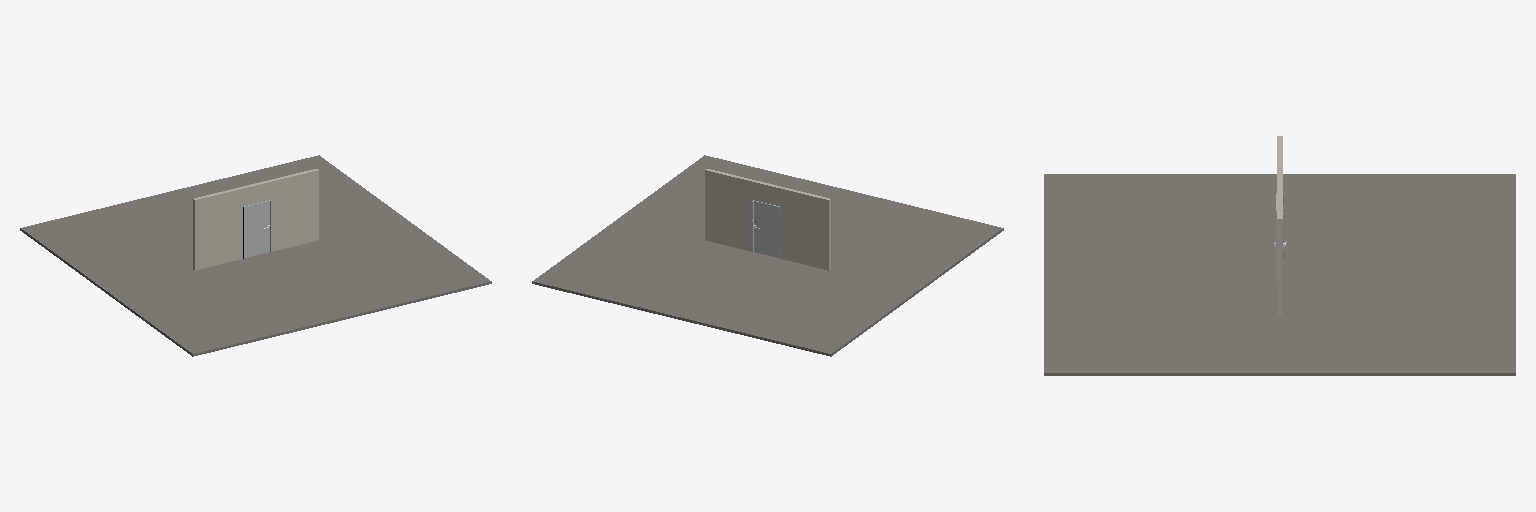
URDF robot description (db0469_cold_storage_simple):
<?xml version="1.0" ?>
<robot xmlns:doorbench="https://github.com/adamraudonis/DoorBench/schema/urdf-ext" name="db0469_cold_storage_simple">
  <link name="world_env">
    <visual name="floor_vis">
      <origin xyz="0 0 -0.05" rpy="0 0 0"/>
      <geometry>
        <box size="12 12 0.1"/>
      </geometry>
      <material name="mat_floor"/>
    </visual>
    <collision name="floor_col">
      <origin xyz="0 0 -0.05" rpy="0 0 0"/>
      <geometry>
        <box size="12 12 0.1"/>
      </geometry>
    </collision>
    <visual name="wall_left_vis">
      <origin xyz="-1.545 0 1.35" rpy="0 0 0"/>
      <geometry>
        <box size="1.91 0.15 2.7"/>
      </geometry>
      <material name="mat_wall"/>
    </visual>
    <collision name="wall_left_col">
      <origin xyz="-1.545 0 1.35" rpy="0 0 0"/>
      <geometry>
        <box size="1.91 0.15 2.7"/>
      </geometry>
    </collision>
    <visual name="wall_right_vis">
      <origin xyz="1.56 0 1.35" rpy="0 0 0"/>
      <geometry>
        <box size="1.88 0.15 2.7"/>
      </geometry>
      <material name="mat_wall"/>
    </visual>
    <collision name="wall_right_col">
      <origin xyz="1.56 0 1.35" rpy="0 0 0"/>
      <geometry>
        <box size="1.88 0.15 2.7"/>
      </geometry>
    </collision>
    <visual name="wall_header_vis">
      <origin xyz="0.015 0 2.3875" rpy="0 0 0"/>
      <geometry>
        <box size="1.21 0.15 0.625"/>
      </geometry>
      <material name="mat_wall"/>
    </visual>
    <collision name="wall_header_col">
      <origin xyz="0.015 0 2.3875" rpy="0 0 0"/>
      <geometry>
        <box size="1.21 0.15 0.625"/>
      </geometry>
    </collision>
    <visual name="hinge_0_jamb_vis">
      <origin xyz="-0.542 0.082 0.262" rpy="3.141593 0 0"/>
      <geometry>
        <mesh filename="../../hardware/hinge_jamb_953fb56768.obj"/>
      </geometry>
      <material name="mat_hinge"/>
    </visual>
    <visual name="hinge_1_jamb_vis">
      <origin xyz="-0.542 0.082 1.7964" rpy="3.141593 0 0"/>
      <geometry>
        <mesh filename="../../hardware/hinge_jamb_953fb56768.obj"/>
      </geometry>
      <material name="mat_hinge"/>
    </visual>
    <visual name="leaf_staple_leg_n_vis">
      <origin xyz="0.572 0.089 1.2125" rpy="-1.570796 0 0"/>
      <geometry>
        <box size="0.006 0.005 0.028"/>
      </geometry>
      <material name="mat_op_steel_galvanized"/>
    </visual>
    <collision name="leaf_staple_leg_n_col">
      <origin xyz="0.572 0.089 1.2125" rpy="-1.570796 0 0"/>
      <geometry>
        <box size="0.006 0.005 0.028"/>
      </geometry>
    </collision>
    <visual name="leaf_staple_leg_p_vis">
      <origin xyz="0.572 0.089 1.1875" rpy="-1.570796 0 0"/>
      <geometry>
        <box size="0.006 0.005 0.028"/>
      </geometry>
      <material name="mat_op_steel_galvanized"/>
    </visual>
    <collision name="leaf_staple_leg_p_col">
      <origin xyz="0.572 0.089 1.1875" rpy="-1.570796 0 0"/>
      <geometry>
        <box size="0.006 0.005 0.028"/>
      </geometry>
    </collision>
    <visual name="leaf_staple_bridge_vis">
      <origin xyz="0.572 0.1005 1.2" rpy="-1.570796 0 0"/>
      <geometry>
        <box size="0.006 0.03 0.005"/>
      </geometry>
      <material name="mat_op_steel_galvanized"/>
    </visual>
    <collision name="leaf_staple_bridge_col">
      <origin xyz="0.572 0.1005 1.2" rpy="-1.570796 0 0"/>
      <geometry>
        <box size="0.006 0.03 0.005"/>
      </geometry>
    </collision>
    <visual name="leaf_staple_base_vis">
      <origin xyz="0.572 0.076 1.2" rpy="-1.570796 0 0"/>
      <geometry>
        <box size="0.032 0.042 0.002"/>
      </geometry>
      <material name="mat_op_steel_galvanized"/>
    </visual>
    <visual name="jamb_hinge_vis">
      <origin xyz="-0.5675 0 1" rpy="0 0 0"/>
      <geometry>
        <box size="0.045 0.15 2"/>
      </geometry>
      <material name="mat_frame"/>
    </visual>
    <collision name="jamb_hinge_col">
      <origin xyz="-0.5675 0 1" rpy="0 0 0"/>
      <geometry>
        <box size="0.045 0.15 2"/>
      </geometry>
    </collision>
    <visual name="strike_1926_wall_n_vis">
      <origin xyz="0.5825 -0.04125 1.9264" rpy="0 0 0"/>
      <geometry>
        <box size="0.075 0.0675 0.038"/>
      </geometry>
      <material name="mat_frame"/>
    </visual>
    <collision name="strike_1926_wall_n_col">
      <origin xyz="0.5825 -0.04125 1.9264" rpy="0 0 0"/>
      <geometry>
        <box size="0.075 0.0675 0.038"/>
      </geometry>
    </collision>
    <visual name="strike_1926_wall_p_vis">
      <origin xyz="0.5825 0.0155 1.9264" rpy="0 0 0"/>
      <geometry>
        <box size="0.075 0.016 0.038"/>
      </geometry>
      <material name="mat_frame"/>
    </visual>
    <collision name="strike_1926_wall_p_col">
      <origin xyz="0.5825 0.0155 1.9264" rpy="0 0 0"/>
      <geometry>
        <box size="0.075 0.016 0.038"/>
      </geometry>
    </collision>
    <visual name="strike_1926_ramp_vis">
      <origin xyz="0.585822 0.055596 1.9264" rpy="0 0 -0.097591"/>
      <geometry>
        <box size="0.075 0.071842 0.038"/>
      </geometry>
      <material name="mat_frame"/>
    </visual>
    <collision name="strike_1926_ramp_col">
      <origin xyz="0.585822 0.055596 1.9264" rpy="0 0 -0.097591"/>
      <geometry>
        <box size="0.075 0.071842 0.038"/>
      </geometry>
    </collision>
    <visual name="strike_1926_ramp_n_vis">
      <origin xyz="0.585822 -0.043596 1.9264" rpy="0 0 0.097591"/>
      <geometry>
        <box size="0.075 0.071842 0.038"/>
      </geometry>
      <material name="mat_frame"/>
    </visual>
    <collision name="strike_1926_ramp_n_col">
      <origin xyz="0.585822 -0.043596 1.9264" rpy="0 0 0.097591"/>
      <geometry>
        <box size="0.075 0.071842 0.038"/>
      </geometry>
    </collision>
    <visual name="strike_1926_back_vis">
      <origin xyz="0.5875 0 1.9264" rpy="0 0 0"/>
      <geometry>
        <box size="0.065 0.015 0.038"/>
      </geometry>
      <material name="mat_frame"/>
    </visual>
    <collision name="strike_1926_back_col">
      <origin xyz="0.5875 0 1.9264" rpy="0 0 0"/>
      <geometry>
        <box size="0.065 0.015 0.038"/>
      </geometry>
    </collision>
    <visual name="jamb_strike_0_vis">
      <origin xyz="0.5825 0 0.9537" rpy="0 0 0"/>
      <geometry>
        <box size="0.075 0.15 1.9074"/>
      </geometry>
      <material name="mat_frame"/>
    </visual>
    <collision name="jamb_strike_0_col">
      <origin xyz="0.5825 0 0.9537" rpy="0 0 0"/>
      <geometry>
        <box size="0.075 0.15 1.9074"/>
      </geometry>
    </collision>
    <visual name="jamb_strike_1_vis">
      <origin xyz="0.5825 0 1.9727" rpy="0 0 0"/>
      <geometry>
        <box size="0.075 0.15 0.0546"/>
      </geometry>
      <material name="mat_frame"/>
    </visual>
    <collision name="jamb_strike_1_col">
      <origin xyz="0.5825 0 1.9727" rpy="0 0 0"/>
      <geometry>
        <box size="0.075 0.15 0.0546"/>
      </geometry>
    </collision>
    <visual name="jamb_head_vis">
      <origin xyz="0.015 0 2.0225" rpy="0 0 0"/>
      <geometry>
        <box size="1.21 0.15 0.045"/>
      </geometry>
      <material name="mat_frame"/>
    </visual>
    <collision name="jamb_head_col">
      <origin xyz="0.015 0 2.0225" rpy="0 0 0"/>
      <geometry>
        <box size="1.21 0.15 0.045"/>
      </geometry>
    </collision>
    <visual name="head_stud_vis">
      <origin xyz="0.015 0 2.06" rpy="0 0 0"/>
      <geometry>
        <box size="1.21 0.15 0.03"/>
      </geometry>
      <material name="mat_wall"/>
    </visual>
    <collision name="head_stud_col">
      <origin xyz="0.015 0 2.06" rpy="0 0 0"/>
      <geometry>
        <box size="1.21 0.15 0.03"/>
      </geometry>
    </collision>
    <visual name="stop_hinge_vis">
      <origin xyz="-0.5395 -0.0915 1" rpy="0 0 0"/>
      <geometry>
        <box size="0.011 0.032 2"/>
      </geometry>
      <material name="mat_frame"/>
    </visual>
    <collision name="stop_hinge_col">
      <origin xyz="-0.5395 -0.0915 1" rpy="0 0 0"/>
      <geometry>
        <box size="0.011 0.032 2"/>
      </geometry>
    </collision>
    <visual name="stop_strike_vis">
      <origin xyz="0.5395 -0.0915 1" rpy="0 0 0"/>
      <geometry>
        <box size="0.011 0.032 2"/>
      </geometry>
      <material name="mat_frame"/>
    </visual>
    <collision name="stop_strike_col">
      <origin xyz="0.5395 -0.0915 1" rpy="0 0 0"/>
      <geometry>
        <box size="0.011 0.032 2"/>
      </geometry>
    </collision>
    <visual name="stop_head_vis">
      <origin xyz="0 -0.0915 1.9945" rpy="0 0 0"/>
      <geometry>
        <box size="1.09 0.032 0.011"/>
      </geometry>
      <material name="mat_frame"/>
    </visual>
    <collision name="stop_head_col">
      <origin xyz="0 -0.0915 1.9945" rpy="0 0 0"/>
      <geometry>
        <box size="1.09 0.032 0.011"/>
      </geometry>
    </collision>
    <visual name="seal_hinge_vis">
      <origin xyz="-0.542 -0.08 1" rpy="0 0 0"/>
      <geometry>
        <box size="0.008 0.01 2"/>
      </geometry>
      <material name="mat_seal"/>
    </visual>
    <visual name="seal_strike_vis">
      <origin xyz="0.542 -0.08 1" rpy="0 0 0"/>
      <geometry>
        <box size="0.008 0.01 2"/>
      </geometry>
      <material name="mat_seal"/>
    </visual>
    <visual name="seal_head_vis">
      <origin xyz="0 -0.08 1.988" rpy="0 0 0"/>
      <geometry>
        <box size="1.05 0.01 0.016"/>
      </geometry>
      <material name="mat_seal"/>
    </visual>
  </link>
  <link name="leaf_riser">
    <inertial>
      <origin xyz="0 0 0" rpy="0 0 0"/>
      <mass value="0.01"/>
      <inertia ixx="0.000001" ixy="0" ixz="0" iyy="0.000001" iyz="0" izz="0.000001"/>
    </inertial>
  </link>
  <link name="leaf">
    <inertial>
      <origin xyz="0.520373 -0.083636 0.951699" rpy="0 0 0"/>
      <mass value="58.810554"/>
      <inertia ixx="20.605331447" ixy="0.066796312" ixz="0.05287208" iyy="26.381168085" iyz="-0.19826602" izz="6.034205659"/>
    </inertial>
    <visual name="leaf_slab_vis">
      <origin xyz="0.535 -0.082 0.9942" rpy="0 0 0"/>
      <geometry>
        <box size="1.07 0.15 1.9644"/>
      </geometry>
      <material name="mat_leaf"/>
    </visual>
    <collision name="leaf_slab_col">
      <origin xyz="0.535 -0.082 0.9942" rpy="0 0 0"/>
      <geometry>
        <box size="1.07 0.15 1.9644"/>
      </geometry>
    </collision>
    <visual name="hinge_0_vis">
      <origin xyz="0 0 0.262" rpy="3.141593 0 0"/>
      <geometry>
        <mesh filename="../../hardware/hinge_05d9a38dfa.obj"/>
      </geometry>
      <material name="mat_hinge"/>
    </visual>
    <visual name="hinge_1_vis">
      <origin xyz="0 0 1.7964" rpy="3.141593 0 0"/>
      <geometry>
        <mesh filename="../../hardware/hinge_05d9a38dfa.obj"/>
      </geometry>
      <material name="mat_hinge"/>
    </visual>
    <visual name="leaf_mag_catch_faceplate_vis">
      <origin xyz="1.0694 -0.082 1.9264" rpy="0 0 0"/>
      <geometry>
        <box size="0.0012 0.024 0.058"/>
      </geometry>
      <material name="mat_bolt"/>
    </visual>
    <visual name="leaf_hasp_plate_vis">
      <origin xyz="0.995 -0.004 1.2" rpy="-1.570796 0 0"/>
      <geometry>
        <box size="0.048 0.043 0.006"/>
      </geometry>
      <material name="mat_op_steel_galvanized"/>
    </visual>
    <visual name="kick_plate_n_vis">
      <origin xyz="0.535 -0.1578 0.147" rpy="0 0 0"/>
      <geometry>
        <box size="1.01 0.0016 0.25"/>
      </geometry>
      <material name="mat_kick"/>
    </visual>
  </link>
  <link name="leaf_handle">
    <inertial>
      <origin xyz="-0.047801 0 0" rpy="0 0 0"/>
      <mass value="2.884841"/>
      <inertia ixx="0.037747558" ixy="0" ixz="0" iyy="0.01820894" iyz="0" izz="0.053988164"/>
    </inertial>
    <visual name="leaf_handle_lever_n_vis">
      <origin xyz="0 -0.075 0" rpy="1.570796 0 0"/>
      <geometry>
        <mesh filename="../../hardware/lever_40740b93f7.obj"/>
      </geometry>
      <material name="mat_op_chrome"/>
    </visual>
    <collision name="leaf_handle_lever_col_n_col">
      <origin xyz="-0.125 -0.13 0" rpy="0 -1.570796 0"/>
      <geometry>
        <cylinder radius="0.0095" length="0.231"/>
      </geometry>
    </collision>
    <collision name="leaf_handle_hub_col_n_col">
      <origin xyz="0 -0.105 0" rpy="-1.570796 0 0"/>
      <geometry>
        <cylinder radius="0.012" length="0.044"/>
      </geometry>
    </collision>
    <visual name="leaf_handle_lever_p_vis">
      <origin xyz="0 0.075 0" rpy="-1.570796 0 0"/>
      <geometry>
        <mesh filename="../../hardware/lever_40740b93f7.obj"/>
      </geometry>
      <material name="mat_op_chrome"/>
    </visual>
    <collision name="leaf_handle_lever_col_p_col">
      <origin xyz="-0.125 0.13 0" rpy="0 -1.570796 0"/>
      <geometry>
        <cylinder radius="0.0095" length="0.231"/>
      </geometry>
    </collision>
    <collision name="leaf_handle_hub_col_p_col">
      <origin xyz="0 0.105 0" rpy="-1.570796 0 0"/>
      <geometry>
        <cylinder radius="0.012" length="0.044"/>
      </geometry>
    </collision>
  </link>
  <link name="leaf_mag_catch">
    <inertial>
      <origin xyz="-0.012 0 0" rpy="0 0 0"/>
      <mass value="0.030762"/>
      <inertia ixx="0.000000526" ixy="0" ixz="0" iyy="0.000002949" iyz="0" izz="0.000002949"/>
    </inertial>
    <visual name="leaf_mag_catch_capsule_vis">
      <origin xyz="-0.012 0 0" rpy="0 1.570796 0"/>
      <geometry>
        <cylinder radius="0.006" length="0.024"/>
      </geometry>
      <material name="mat_bolt"/>
    </visual>
    <collision name="leaf_mag_catch_capsule_col">
      <origin xyz="-0.012 0 0" rpy="0 1.570796 0"/>
      <geometry>
        <cylinder radius="0.006" length="0.024"/>
      </geometry>
    </collision>
  </link>
  <link name="leaf_hasp">
    <inertial>
      <origin xyz="-0.057507 0.018853 0" rpy="0 0 0"/>
      <mass value="0.099099"/>
      <inertia ixx="0.00002375" ixy="0.000038139" ixz="0" iyy="0.000117466" iyz="0" izz="0.000120983"/>
    </inertial>
    <visual name="leaf_hasp_strap_vis">
      <origin xyz="-0.057507 0.018853 0" rpy="-1.570796 0 2.8"/>
      <geometry>
        <box size="0.121 0.035 0.003"/>
      </geometry>
      <material name="mat_op_steel_galvanized"/>
    </visual>
    <collision name="leaf_hasp_strap_col">
      <origin xyz="-0.057507 0.018853 0" rpy="-1.570796 0 2.8"/>
      <geometry>
        <box size="0.121 0.035 0.003"/>
      </geometry>
    </collision>
  </link>
  <joint name="leaf_rise" type="prismatic">
    <origin xyz="-0.545 0 0" rpy="0 0 0"/>
    <parent link="world_env"/>
    <child link="leaf_riser"/>
    <axis xyz="0 0 1"/>
    <limit lower="0" upper="0.0264" effort="5000" velocity="10"/>
    <dynamics damping="1" friction="0"/>
    <mimic joint="leaf_hinge" multiplier="0.007639" offset="0"/>
  </joint>
  <joint name="leaf_hinge" type="revolute">
    <origin xyz="0.003 0.082 0" rpy="0 0 0"/>
    <parent link="leaf_riser"/>
    <child link="leaf"/>
    <axis xyz="0 0 1"/>
    <limit lower="0" upper="1.570796" effort="2000" velocity="10"/>
    <dynamics damping="0.518725" friction="5.823855"/>
    <doorbench:closer damping_closing="0" damping_opening="0" backcheck_angle="0" backcheck_damping="0"/>
    <doorbench:note text="rising hinge: gravity closing torque ~ m*g*0.0076 N*m/rad"/>
  </joint>
  <joint name="leaf_handle_hinge" type="revolute">
    <origin xyz="1.005 -0.082 1" rpy="0 0 0"/>
    <parent link="leaf"/>
    <child link="leaf_handle"/>
    <axis xyz="0 -1 0"/>
    <limit lower="0" upper="0.5" effort="2000" velocity="10"/>
    <dynamics damping="0.58994" friction="0.07"/>
    <doorbench:spring stiffness="2.5" springref="-0.96" note="tau = -stiffness*(q - springref); not native URDF"/>
  </joint>
  <joint name="leaf_mag_catch_slide" type="prismatic">
    <origin xyz="1.07 -0.082 1.9264" rpy="0 0 0"/>
    <parent link="leaf"/>
    <child link="leaf_mag_catch"/>
    <axis xyz="-1 0 0"/>
    <limit lower="0" upper="0.006" effort="5000" velocity="10"/>
    <dynamics damping="2" friction="0.3"/>
    <doorbench:spring stiffness="20000" springref="-0.006" note="tau = -stiffness*(q - springref); not native URDF"/>
  </joint>
  <joint name="leaf_hasp_hinge" type="revolute">
    <origin xyz="1.015 -0.001 1.2" rpy="0 0 0"/>
    <parent link="leaf"/>
    <child link="leaf_hasp"/>
    <axis xyz="0 0 1"/>
    <doorbench:zero_offset value="2.8" note="URDF q=0 is the spec initial state; DoorBench q = urdf_q + value"/>
    <limit lower="-2.8" upper="0.1" effort="2000" velocity="10"/>
    <dynamics damping="0.02" friction="0.05"/>
  </joint>
  <material name="mat_bolt">
    <color rgba="0.75 0.76 0.77 1"/>
  </material>
  <material name="mat_floor">
    <color rgba="0.55 0.53 0.5 1"/>
  </material>
  <material name="mat_frame">
    <color rgba="0.75 0.76 0.77 1"/>
  </material>
  <material name="mat_hinge">
    <color rgba="0.55 0.56 0.58 1"/>
  </material>
  <material name="mat_kick">
    <color rgba="0.75 0.76 0.77 1"/>
  </material>
  <material name="mat_leaf">
    <color rgba="0.75 0.76 0.77 1"/>
  </material>
  <material name="mat_op_chrome">
    <color rgba="0.9 0.9 0.92 1"/>
  </material>
  <material name="mat_op_steel_galvanized">
    <color rgba="0.65 0.66 0.68 1"/>
  </material>
  <material name="mat_seal">
    <color rgba="0.1 0.1 0.1 1"/>
  </material>
  <material name="mat_wall">
    <color rgba="0.78 0.76 0.7 1"/>
  </material>
</robot>

--- What the picture shows (computed from the rendered views, not written in the file) ---
Views: 3 orthographic renders of the robot side by side, from view 1: azimuth 30°, elevation 25°; view 2: azimuth 150°, elevation 25°; view 3: azimuth 270°, elevation 25°.
Model db0469_cold_storage_simple with 6 links and 5 joints (3 revolute, 2 prismatic), rooted at world_env, posed all joints at 0.
Links seen in each view (by area): view 1: world_env, leaf; view 2: world_env, leaf; view 3: world_env.
Boxes of the visible links, left/top/right/bottom form: world_env: left=20, top=155, right=491, bottom=356; leaf: left=244, top=201, right=269, bottom=257; world_env: left=532, top=155, right=1003, bottom=356; leaf: left=754, top=200, right=780, bottom=257; world_env: left=1044, top=136, right=1515, bottom=375.
Size in the robot's own frame: 12 by 12 by 2.8 metres.
6 mesh visuals loaded from 3 distinct referenced files (3 OBJ).
